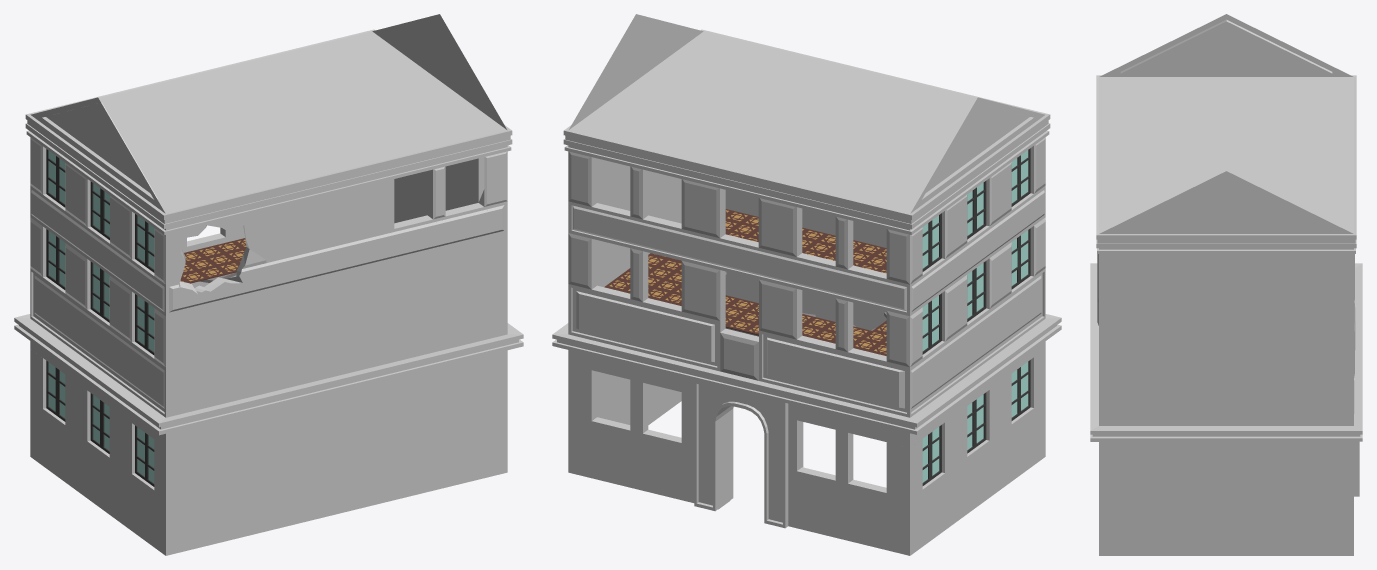
Rendered from 08_Parquet_Trial.fbx.
The picture shows the model from 3 angles, left to right: view 1: azimuth 30°, elevation 25°; view 2: azimuth 150°, elevation 25°; view 3: azimuth 270°, elevation 25°; orthographic projection. The views are drawn at different scales.
Parts seen in each view (by area): view 1: Cube.011, Cube.046, Cube.399; view 2: Cube.011, Cube.046, Cube.399; view 3: Cube.011.
Part boxes in pixels (x1,y1,x2,y2): Cube.011: (14, 14, 523, 555); Cube.046: (46, 149, 154, 486); Cube.399: (180, 238, 246, 283); Cube.011: (552, 14, 1061, 555); Cube.046: (922, 148, 1030, 485); Cube.399: (604, 209, 886, 355); Cube.011: (1090, 14, 1362, 555).
Size of the model in its own units: 1942 by 2084 by 1334.
